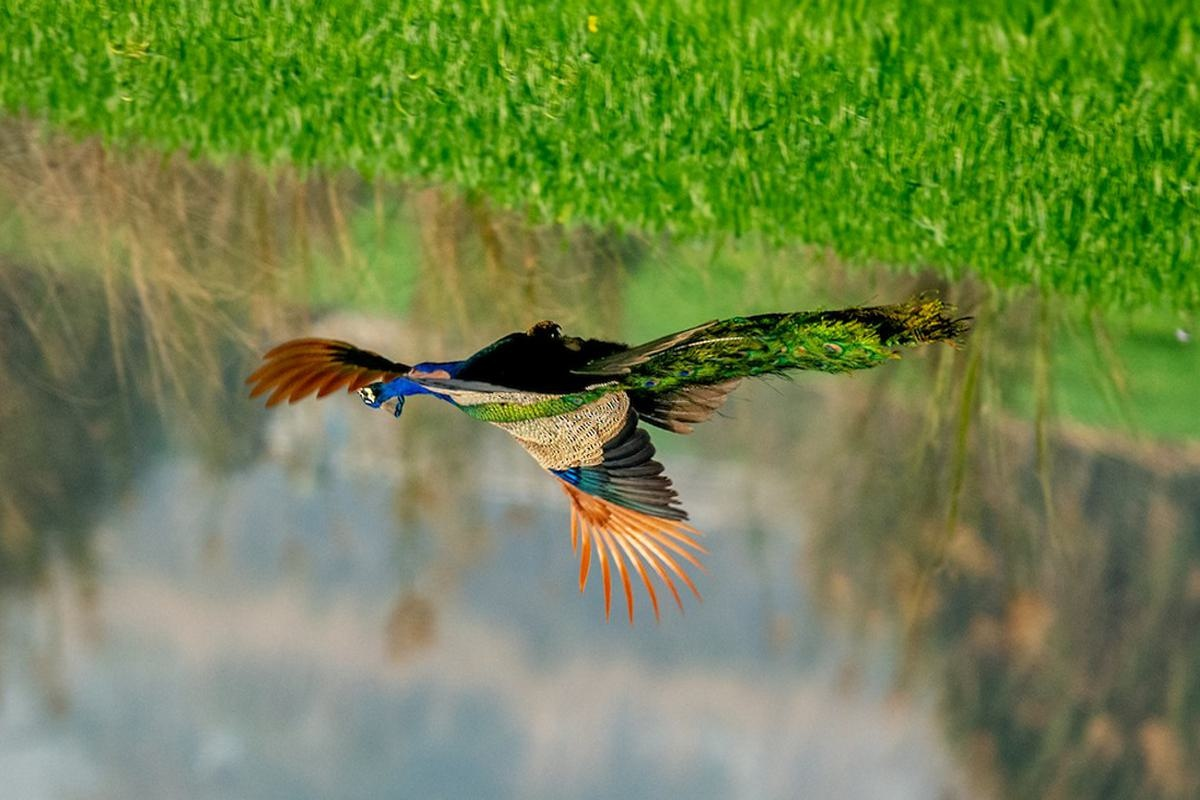peacock: (257, 276, 965, 578)
